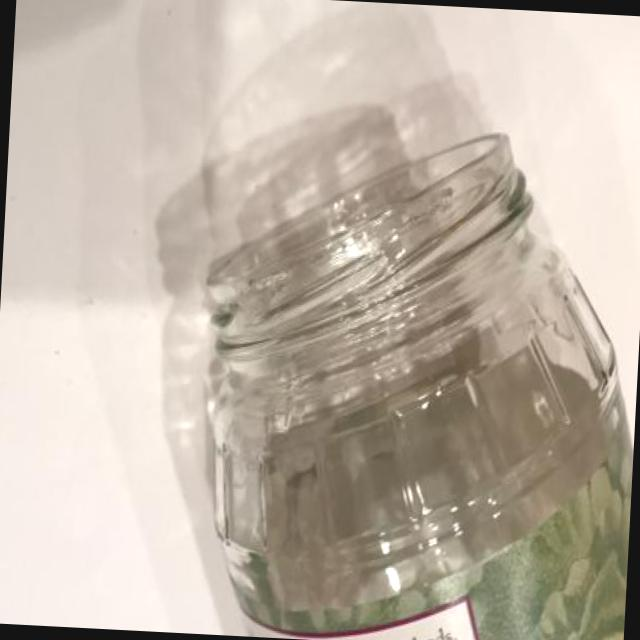chai_thuy_tinh: (205, 136, 619, 631)
